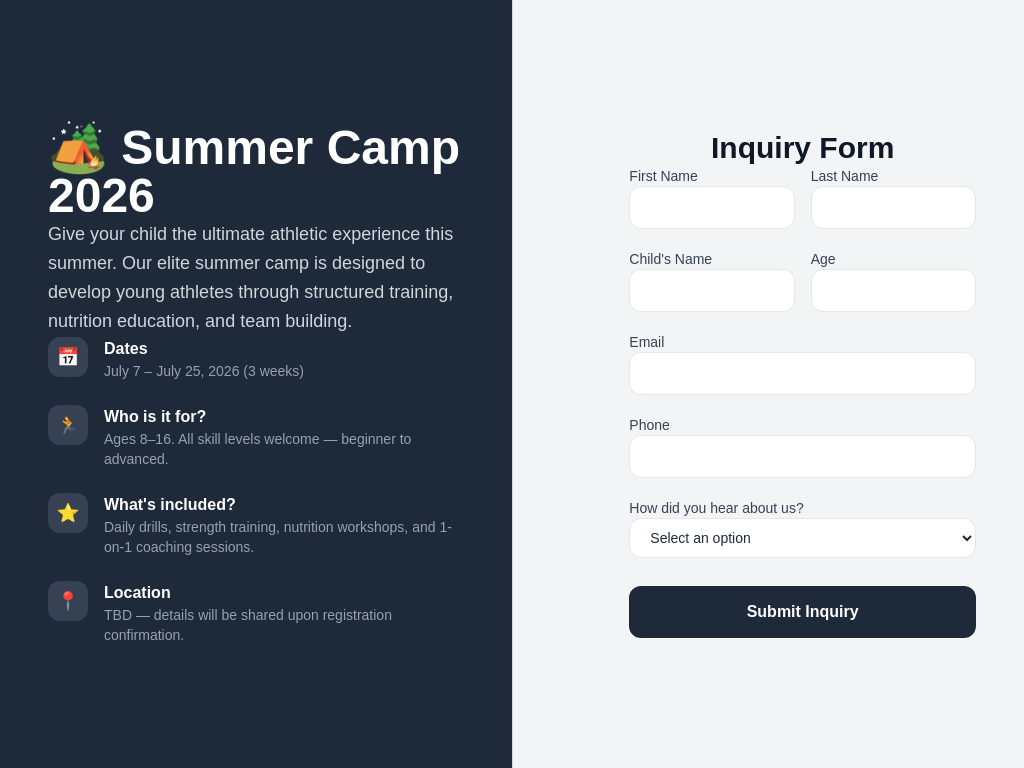
Test: SummerCamp Page › shows error message when submission fails
In the number field named "age": (893, 291) [811,269,976,312], type "12"
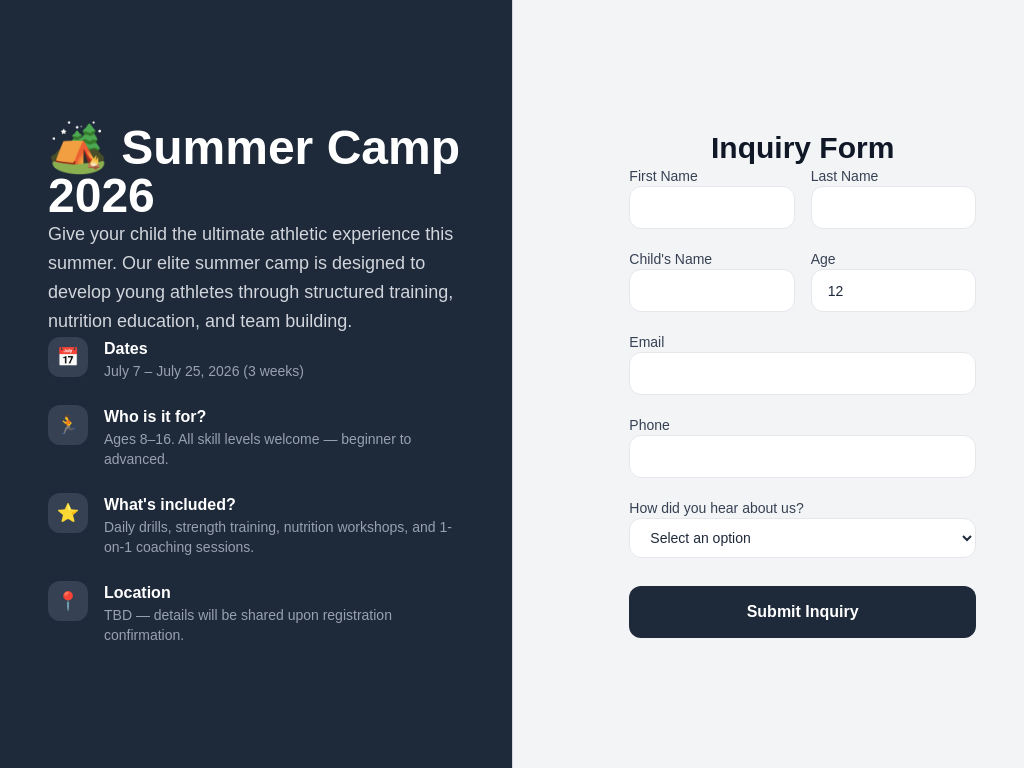
Submit the form, box [629,166,976,638]
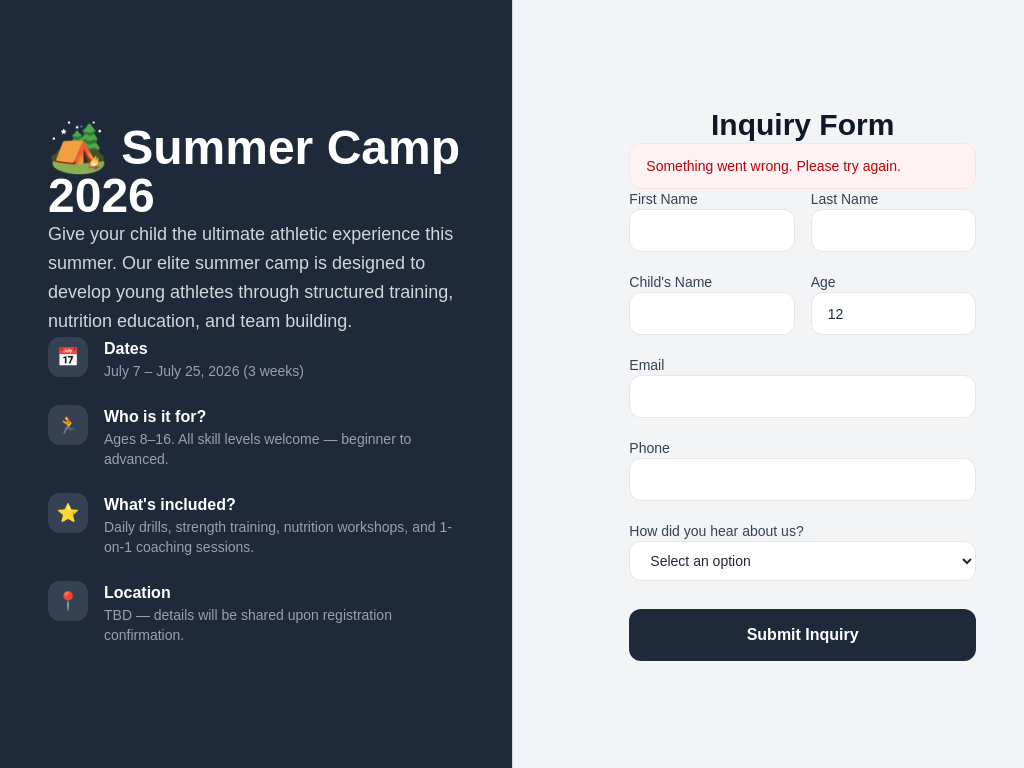
expect the text "Something went wrong. Please try again." is shown: met, box [629,144,976,190]
